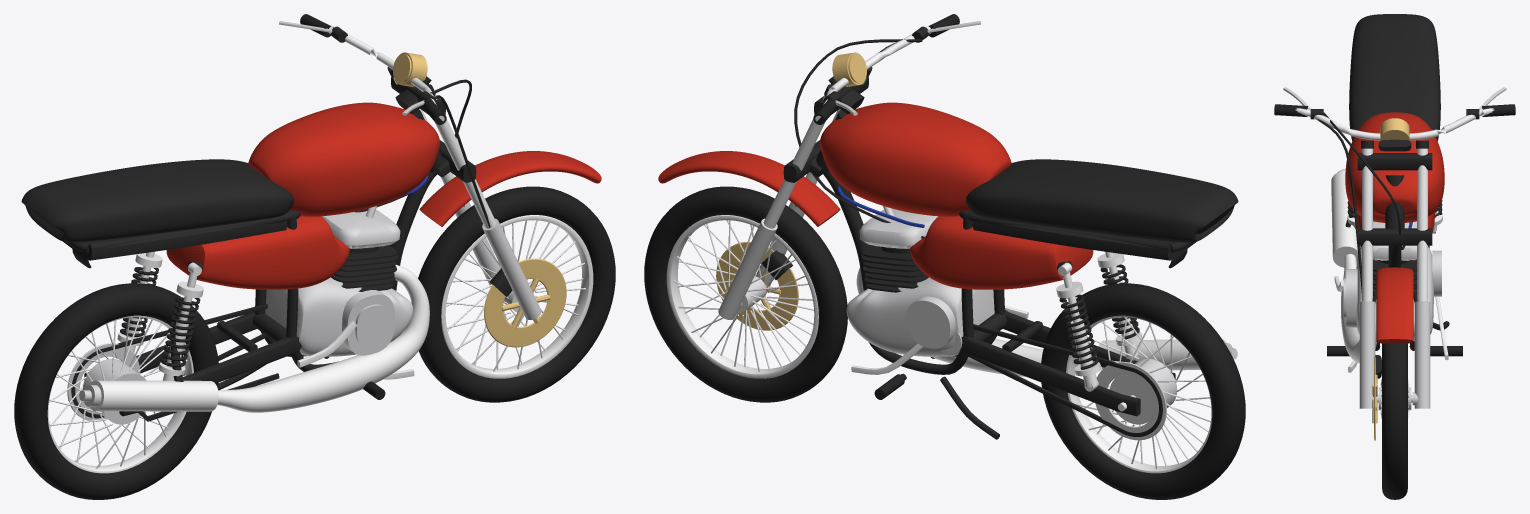
File: moto.fbx
3 views of the same model, side by side, from view 1: azimuth 30°, elevation 25°; view 2: azimuth 150°, elevation 25°; view 3: azimuth 270°, elevation 25° (orthographic). The views are drawn at different scales.
Parts seen in each view (by area): view 1: Asiento, Tanque, Rueda_Trasera_Llanta, Rueda_Delantera_Llanta, Tapa_Lateral, Expansion, Carter, Basculante, Guardabarros_Delantero, Rueda_Delantera_Disco_Freno, Rueda_Delantera_Rin, Silenciador (+22 smaller); view 2: Asiento, Tanque, Rueda_Trasera_Llanta, Rueda_Delantera_Llanta, Tapa_Lateral, Carter, Basculante, Chasis, Guardabarros_Delantero, Rueda_Delantera_Rayos, Rueda_Delantera_Rin, Bandeja_Asiento (+22 smaller); view 3: Asiento, Tanque, Rueda_Delantera_Llanta, Guardabarros_Delantero, Botella_Horquilla_Izq, Botella_Horquilla_Der, Silenciador, Barra_Horquilla_Izq, Barra_Horquilla_Der, Tijera_Inferior, Tijera_Superior, Manubrio (+17 smaller).
Boxes of the visible parts, bbox=[...] form: Asiento: bbox=[21, 159, 293, 242]; Tanque: bbox=[248, 102, 439, 216]; Rueda_Trasera_Llanta: bbox=[14, 283, 218, 499]; Rueda_Delantera_Llanta: bbox=[418, 186, 615, 402]; Tapa_Lateral: bbox=[166, 216, 349, 289]; Expansion: bbox=[217, 264, 429, 412]; Carter: bbox=[265, 277, 413, 356]; Basculante: bbox=[84, 312, 301, 416]; Guardabarros_Delantero: bbox=[419, 151, 601, 226]; Rueda_Delantera_Disco_Freno: bbox=[484, 258, 566, 347]; Rueda_Delantera_Rin: bbox=[441, 215, 593, 378]; Silenciador: bbox=[90, 380, 218, 411]; Asiento: bbox=[966, 159, 1238, 242]; Tanque: bbox=[820, 102, 1011, 216]; Rueda_Trasera_Llanta: bbox=[1041, 283, 1245, 499]; Rueda_Delantera_Llanta: bbox=[644, 186, 847, 402]; Tapa_Lateral: bbox=[910, 216, 1093, 289]; Carter: bbox=[846, 277, 994, 356]; Basculante: bbox=[960, 310, 1175, 416]; Chasis: bbox=[822, 171, 1193, 374]; Guardabarros_Delantero: bbox=[658, 151, 840, 226]; Rueda_Delantera_Rayos: bbox=[673, 220, 813, 371]; Rueda_Delantera_Rin: bbox=[666, 215, 818, 378]; Bandeja_Asiento: bbox=[972, 221, 1196, 260]; Asiento: bbox=[1349, 14, 1440, 140]; Tanque: bbox=[1345, 112, 1444, 222]; Rueda_Delantera_Llanta: bbox=[1382, 343, 1407, 499]; Guardabarros_Delantero: bbox=[1376, 267, 1413, 343]; Botella_Horquilla_Izq: bbox=[1412, 301, 1430, 408]; Botella_Horquilla_Der: bbox=[1359, 301, 1377, 408]; Silenciador: bbox=[1331, 171, 1357, 267]; Barra_Horquilla_Izq: bbox=[1417, 148, 1427, 301]; Barra_Horquilla_Der: bbox=[1362, 148, 1372, 301]; Tijera_Inferior: bbox=[1357, 228, 1432, 245]; Tijera_Superior: bbox=[1357, 153, 1432, 170]; Manubrio: bbox=[1295, 108, 1494, 140].
Size of the model in its own units: 1.87 by 1.12 by 0.7456.
